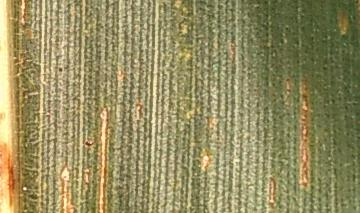tarspot: (79, 136, 96, 150), (55, 62, 66, 75)
